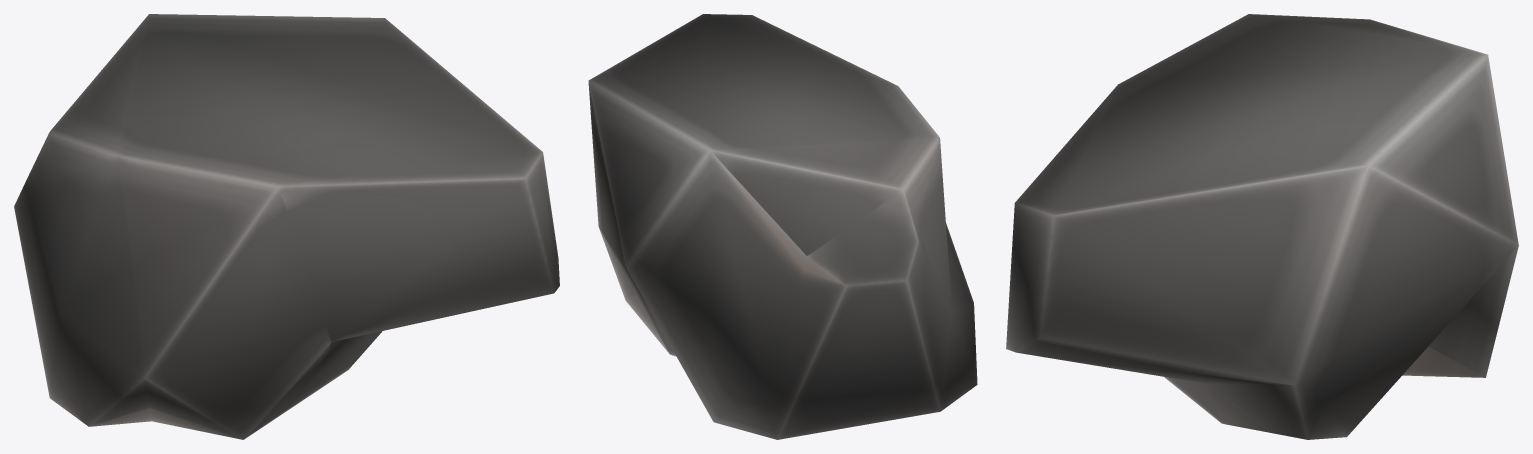
File: Rock_04.gltf
3 views of the same model, side by side, from view 1: azimuth 30°, elevation 25°; view 2: azimuth 150°, elevation 25°; view 3: azimuth 270°, elevation 25° (orthographic). The views are drawn at different scales.
Parts seen in each view (by area): view 1: Rock_4; view 2: Rock_4; view 3: Rock_4.
Boxes of the visible parts, box(x1,y1,x2,y2) form: Rock_4: box(14, 14, 559, 439); Rock_4: box(588, 14, 977, 439); Rock_4: box(1006, 14, 1518, 439).
Bounding box in the file's own units: 5.27 × 3.81 × 5.45.
1 material, 1 textured.
